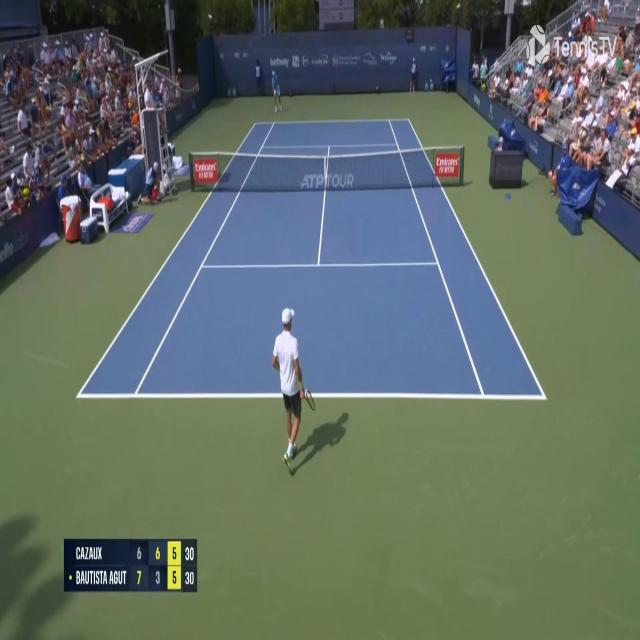tennis-player: (270, 306, 316, 475), (271, 69, 283, 114)
